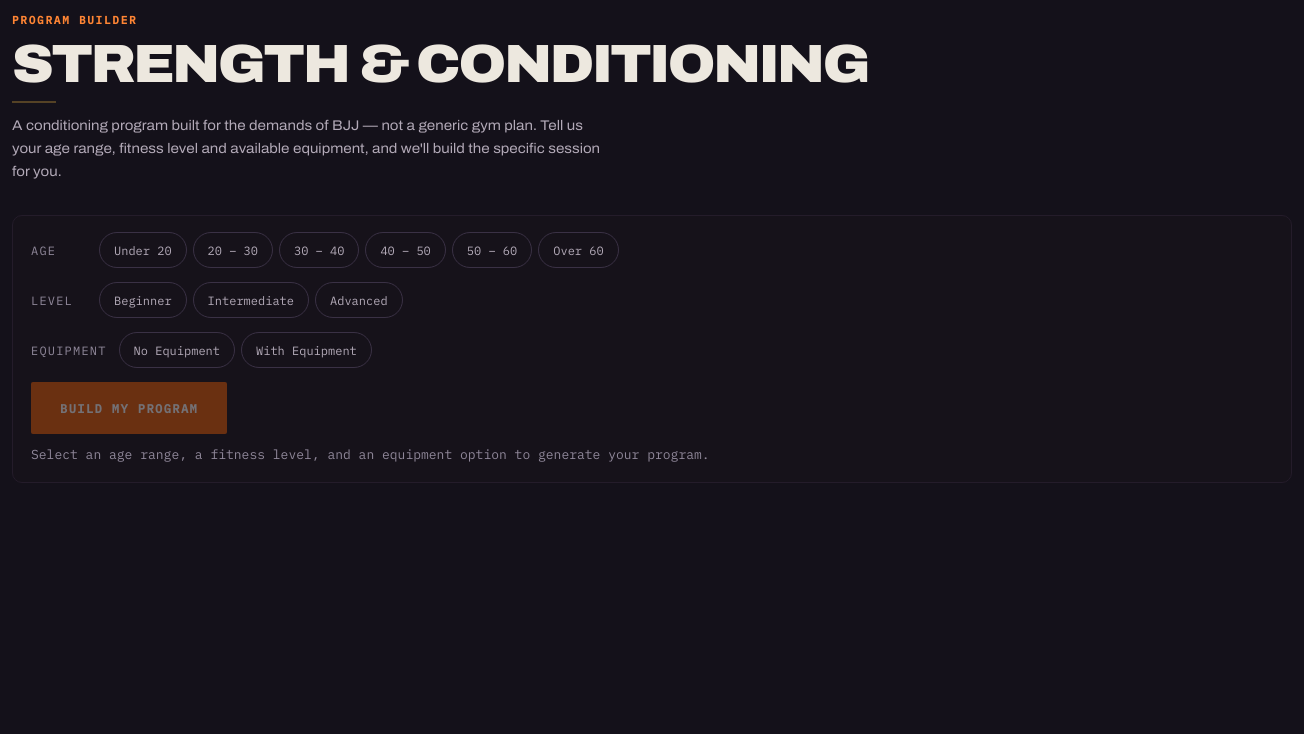
Test: the cue is hidden until asked for, and the diagram comes with it
What coordinates should you click on to do the following:
click the button "20 – 30"
I would click on:
 (233, 250)
Its box is [193, 232, 273, 268].
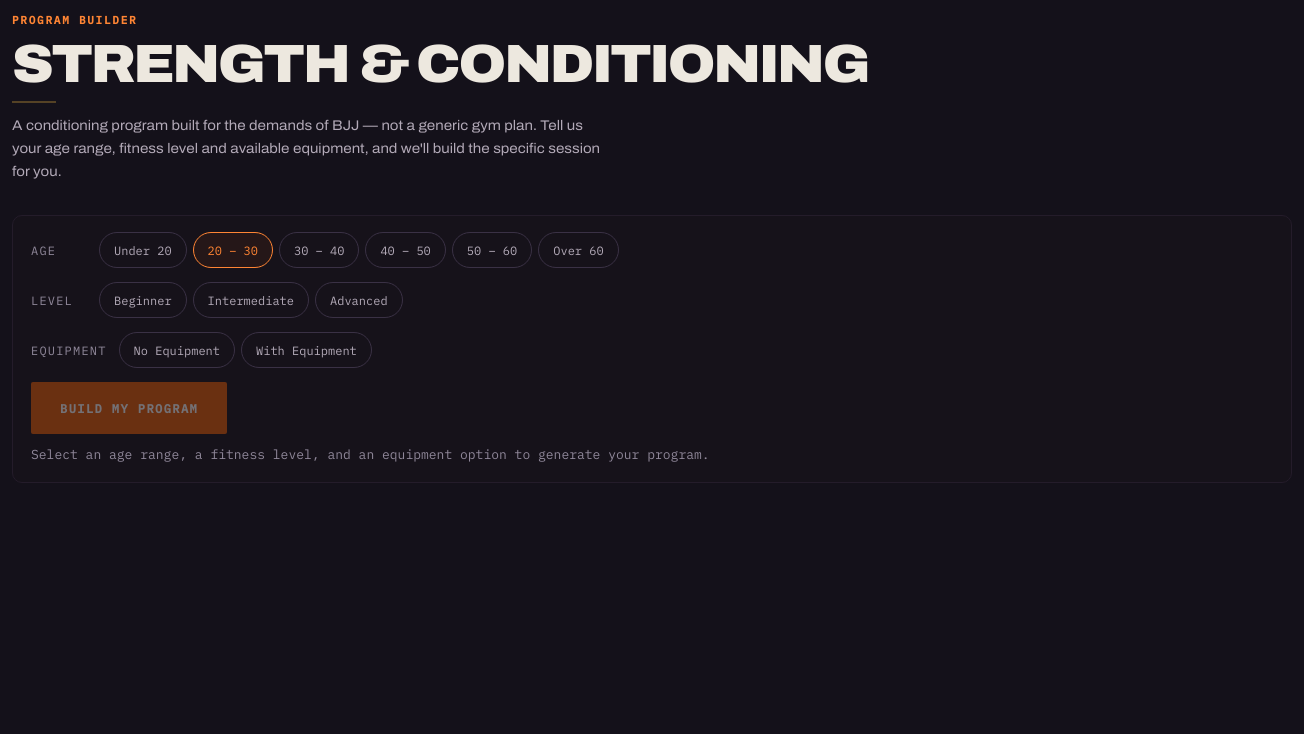
What coordinates should you click on to do the following:
click the button "Beginner"
I would click on:
 (143, 300)
Its box is [99, 282, 187, 318].
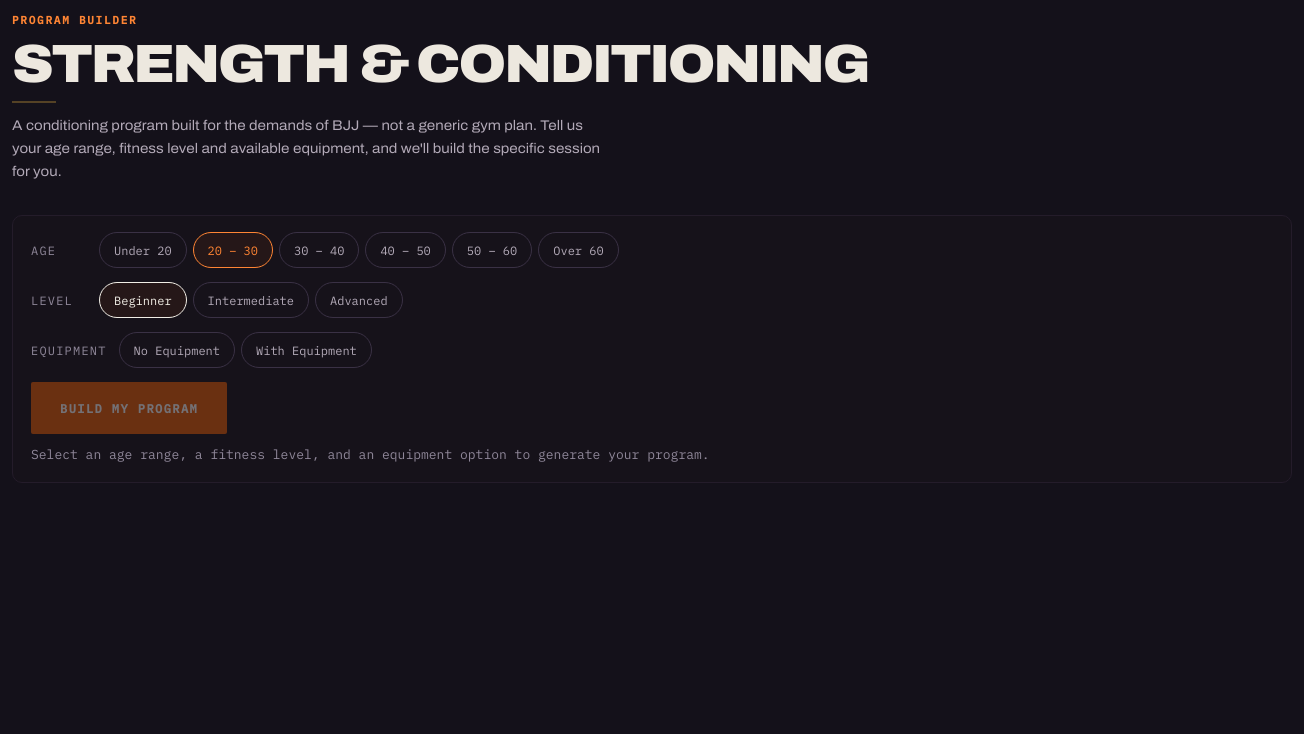
What coordinates should you click on to do the following:
click the button "No Equipment"
I would click on:
 (177, 350)
Its box is [119, 332, 235, 368].
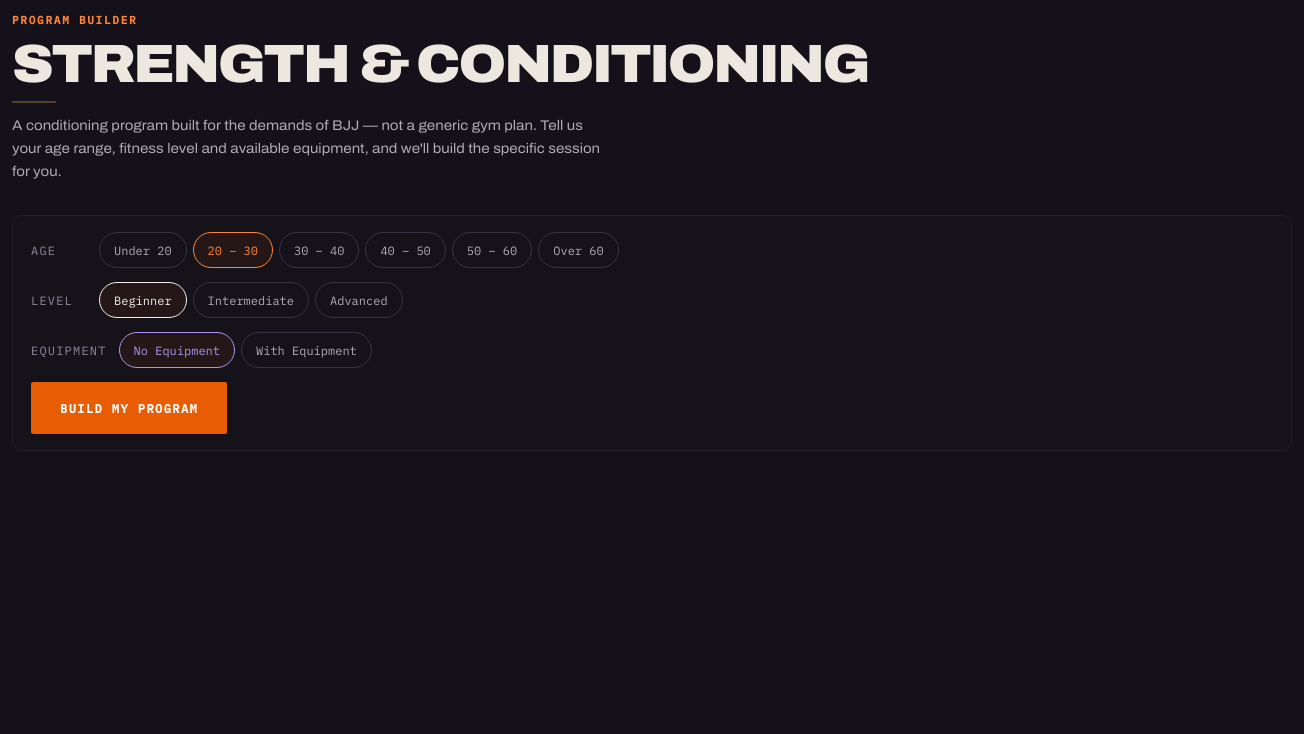
What coordinates should you click on to do the following:
click the button "Build My Program"
I would click on:
 (129, 408)
Its box is [31, 382, 227, 434].
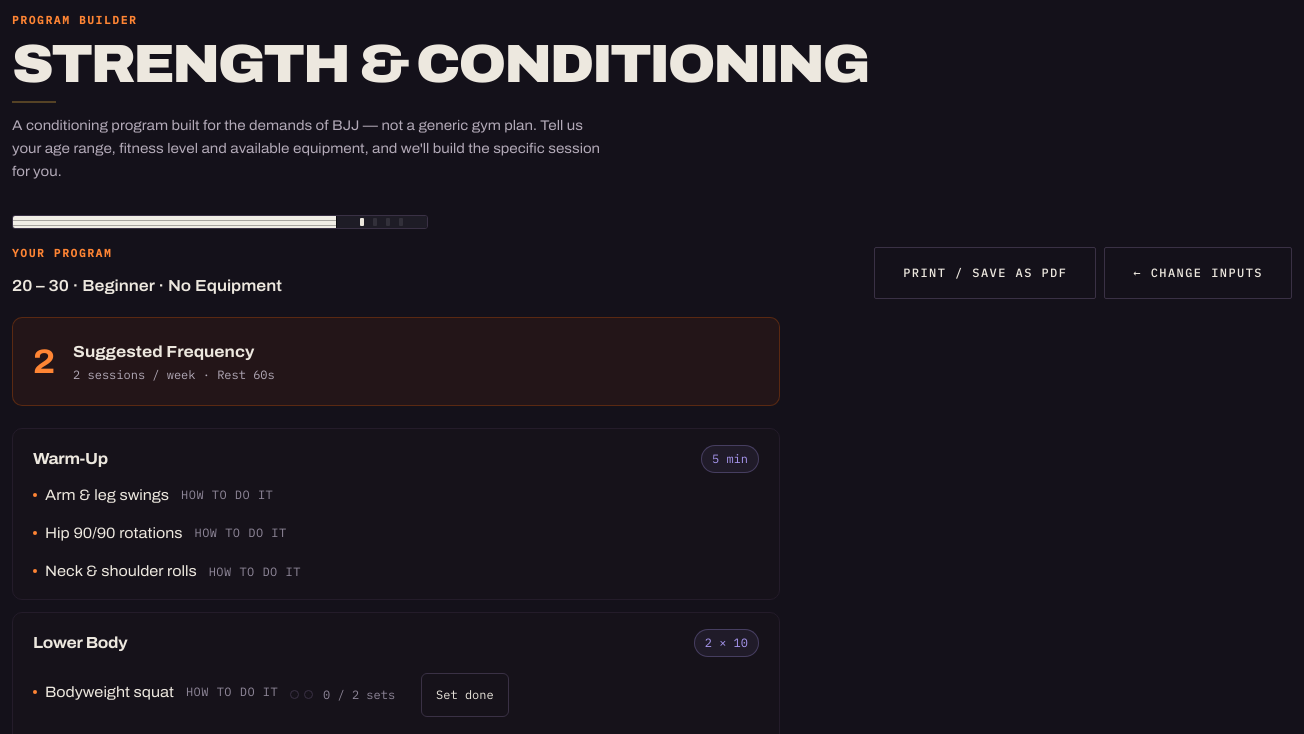
What coordinates should you click on to do the following:
click the button "How to do it" next to "Arm & leg swings"
I would click on:
 (227, 495)
Its box is [177, 473, 277, 517].
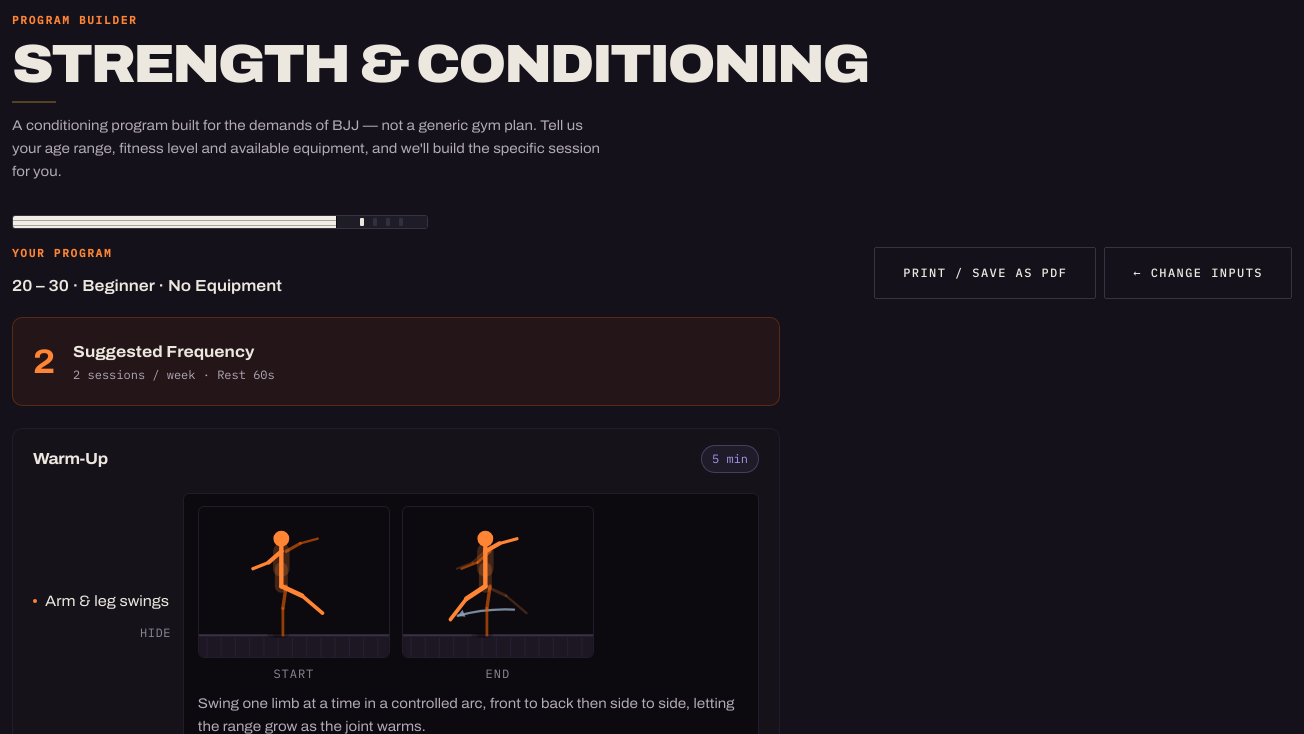
Result: the button "How to do it" is expanded at [136, 611, 175, 655]
